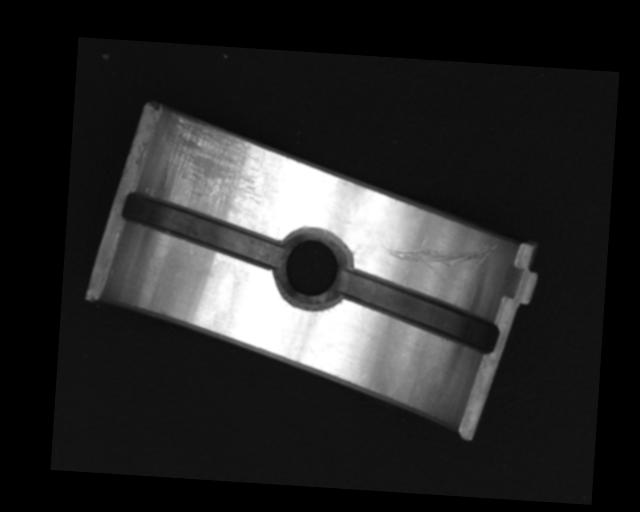gap: (335, 266, 502, 354), (117, 191, 289, 266)
hole: (274, 228, 351, 309)
nick: (384, 233, 500, 286)
scratch: (154, 109, 266, 219)
